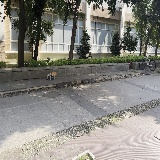fire: (51, 71, 57, 75)
